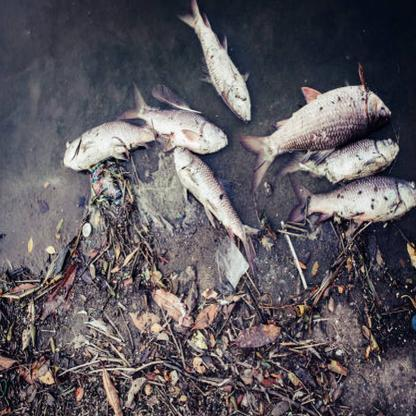deceased fish: (242, 79, 389, 184), (169, 143, 260, 246), (181, 6, 251, 122), (125, 83, 228, 154), (284, 176, 416, 219), (57, 121, 159, 170), (298, 140, 399, 177)
